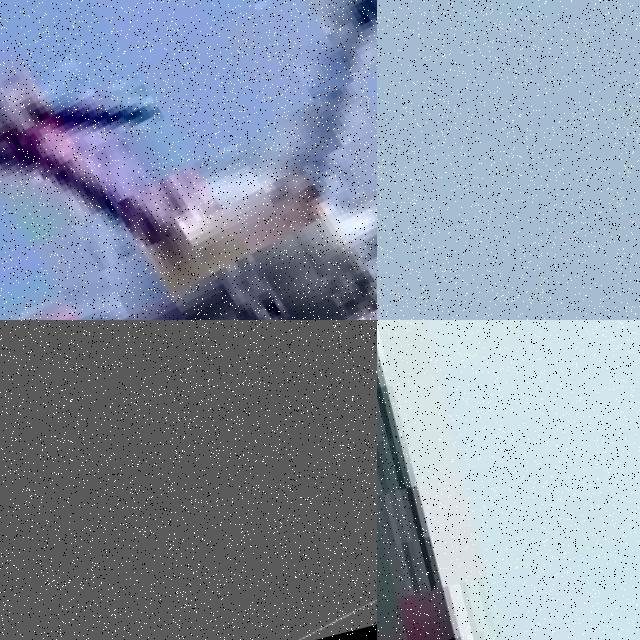drone: (0, 0, 377, 320), (0, 320, 377, 640)
